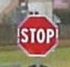stop: (16, 11, 57, 57)
